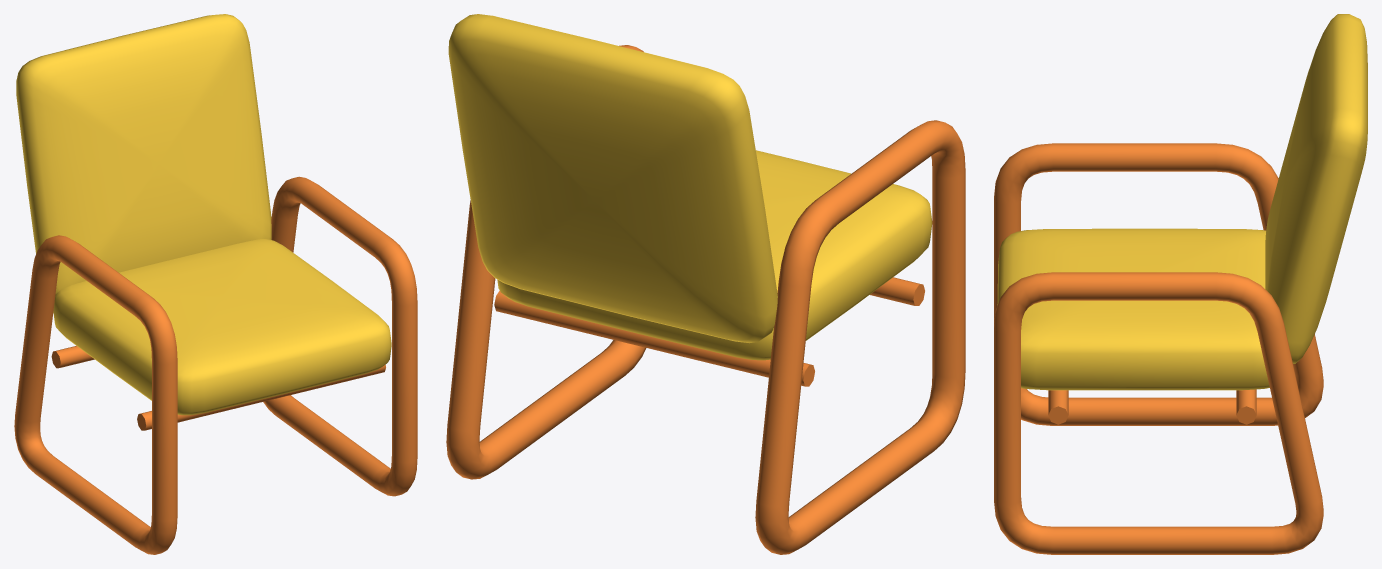
The model's file is poltrona_alca_amarela.glb.
3 renders of one model, left to right at view 1: azimuth 30°, elevation 25°; view 2: azimuth 150°, elevation 25°; view 3: azimuth 270°, elevation 25°, orthographic. The views are drawn at different scales.
Visible parts, largest first — view 1: poltrona_alca_amarela; view 2: poltrona_alca_amarela; view 3: poltrona_alca_amarela.
Boxes of the visible parts, x1,y1,x2,y2 form: poltrona_alca_amarela: [14, 14, 417, 554]; poltrona_alca_amarela: [446, 14, 965, 554]; poltrona_alca_amarela: [994, 14, 1367, 554].
Size of the model in its own units: 0.656 by 0.9235 by 0.7353.
1 material, 1 textured.
